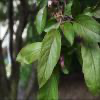Apple leaf: (36, 27, 59, 89), (78, 33, 99, 99), (14, 41, 46, 66), (71, 15, 99, 43), (35, 71, 59, 99), (58, 19, 76, 47), (34, 3, 49, 36)
